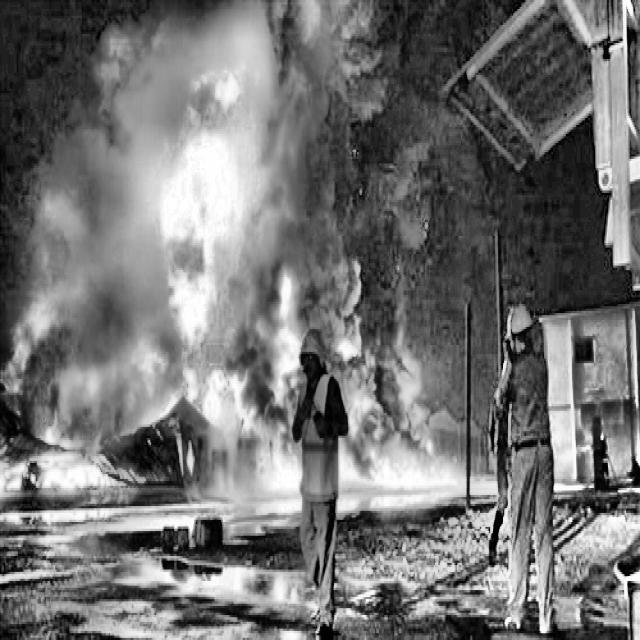fire: (69, 27, 282, 435), (328, 354, 470, 517)
